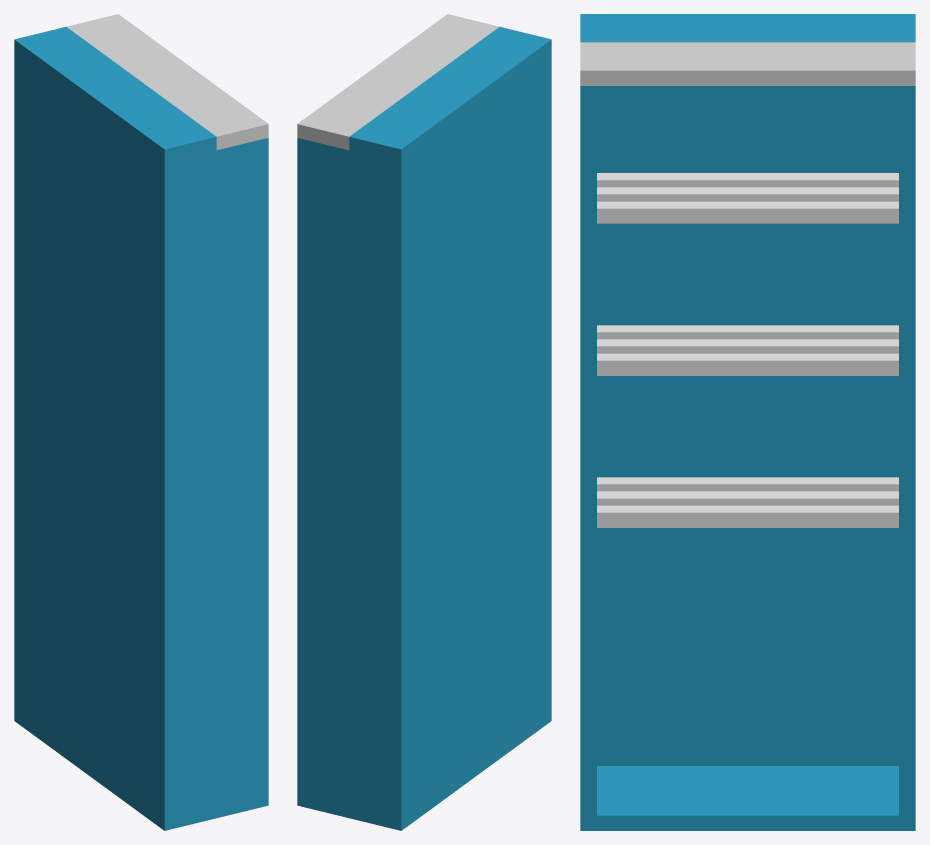
Rendered from Blue shelf.fbx.
The picture shows the model from 3 angles, left to right: view 1: azimuth 30°, elevation 25°; view 2: azimuth 150°, elevation 25°; view 3: azimuth 270°, elevation 25°; orthographic projection. The views are drawn at different scales.
Parts seen in each view (by area): view 1: Blue shelf.001; view 2: Blue shelf.001; view 3: Blue shelf.001.
Part boxes in pixels (left/top/right/bottom): Blue shelf.001: left=14, top=14, right=268, bottom=830; Blue shelf.001: left=297, top=14, right=551, bottom=830; Blue shelf.001: left=580, top=14, right=915, bottom=830.
Bounding box in the file's own units: 800 × 5000 × 2000.
Materials: 1 (1 with a texture image).
